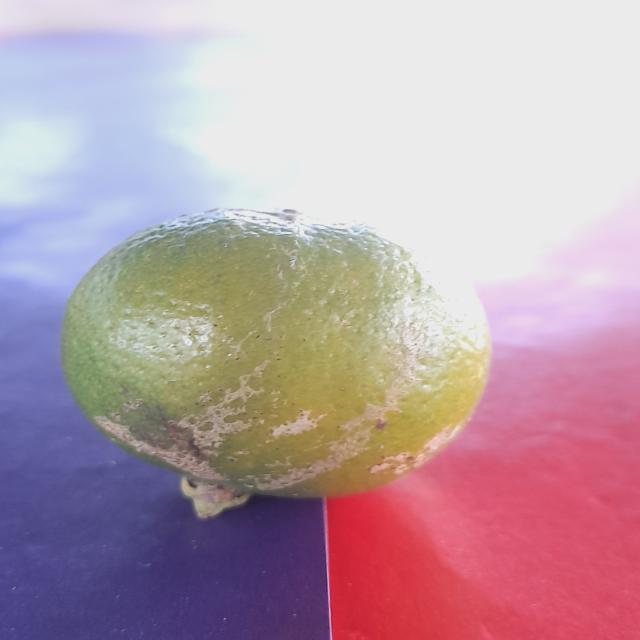thrips: (49, 200, 504, 515)
